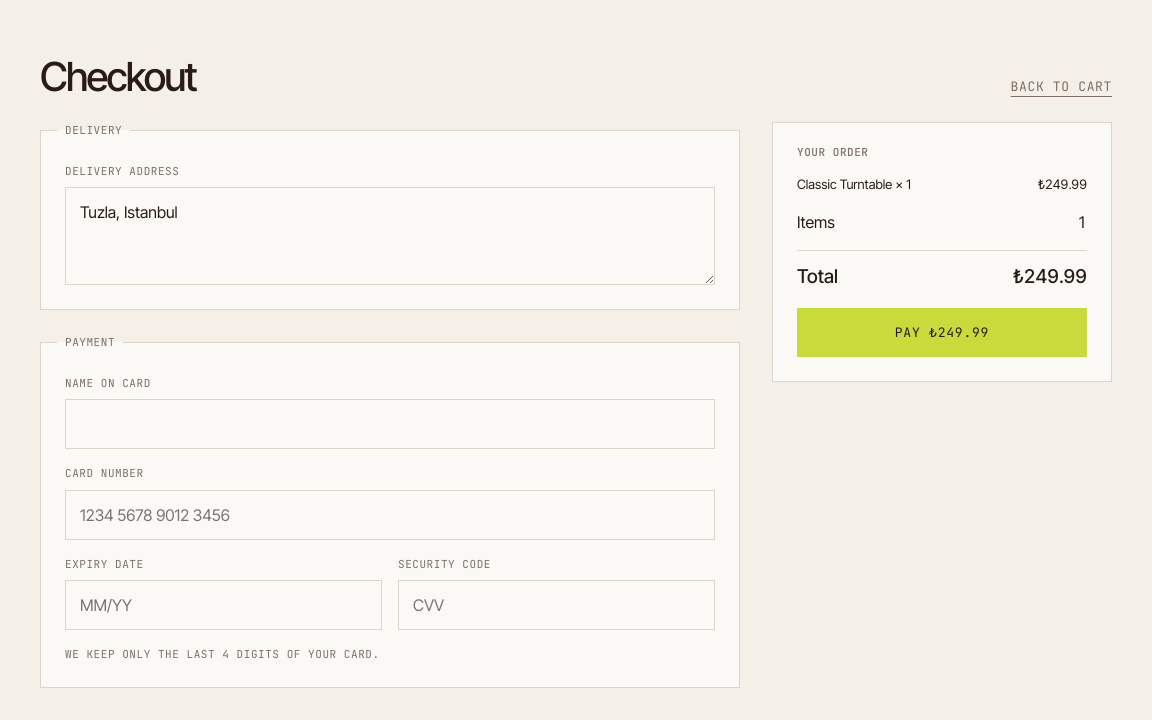
it: CheckoutPage › formats the card fields while typing
The width and height of the screenshot is (1152, 720).
Expected: the text "Classic Turntable × 1" is shown, x1=797 y1=174 x2=911 y2=194
Type "4111111111111111" into the field labelled "Card number".
click(390, 514); type("4111111111111111")  # box x1=65 y1=490 x2=715 y2=540
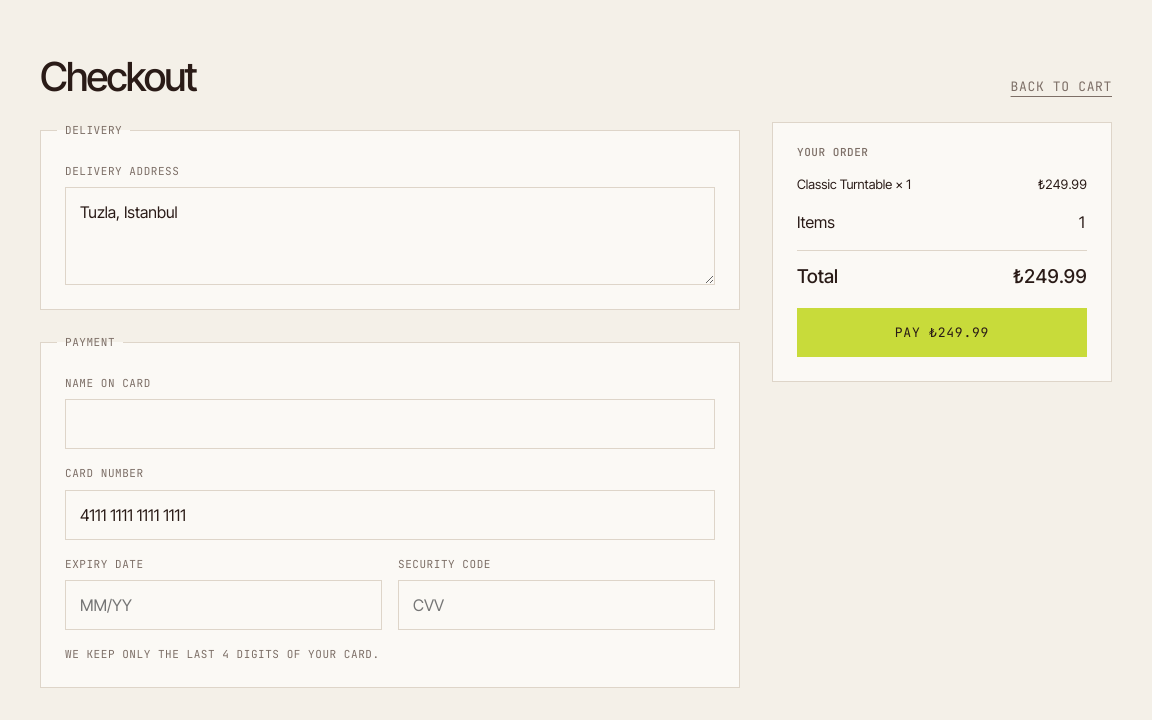
Type "0830" into the field labelled "Expiry date".
click(224, 605); type("0830")  # box x1=65 y1=580 x2=382 y2=630
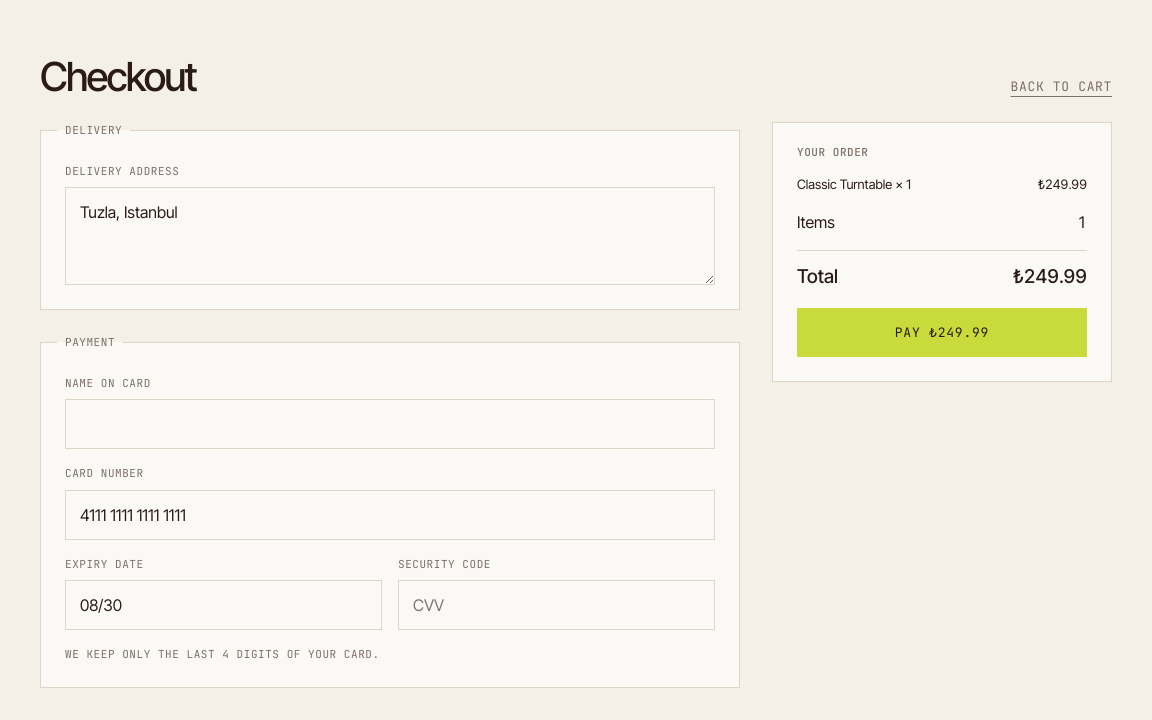
Now the field labelled "Card number" holds "4111 1111 1111 1111", box x1=65 y1=490 x2=715 y2=540
Now the field labelled "Expiry date" holds "08/30", box x1=65 y1=580 x2=382 y2=630
